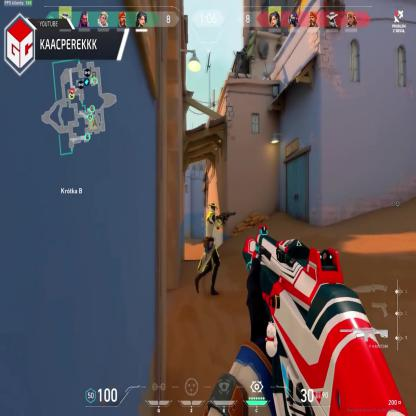enemy: (196, 199, 221, 290)
enemy_head: (209, 202, 218, 214)
